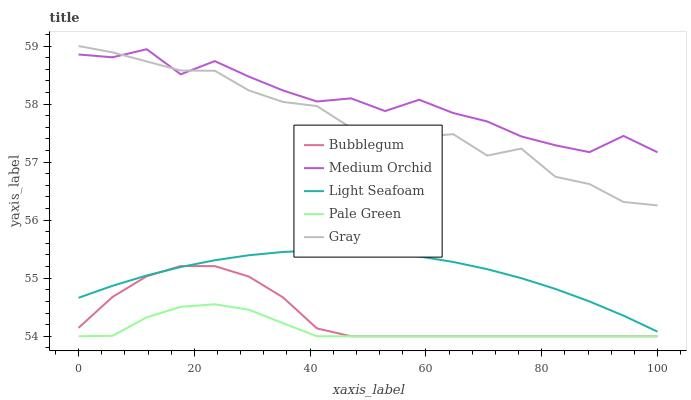axis: (57, 345, 688, 356), (44, 34, 54, 345)
legend: (291, 123, 442, 258)
line: (78, 44, 659, 208), (78, 48, 659, 154), (78, 248, 658, 333), (77, 263, 607, 338), (79, 303, 657, 339)
